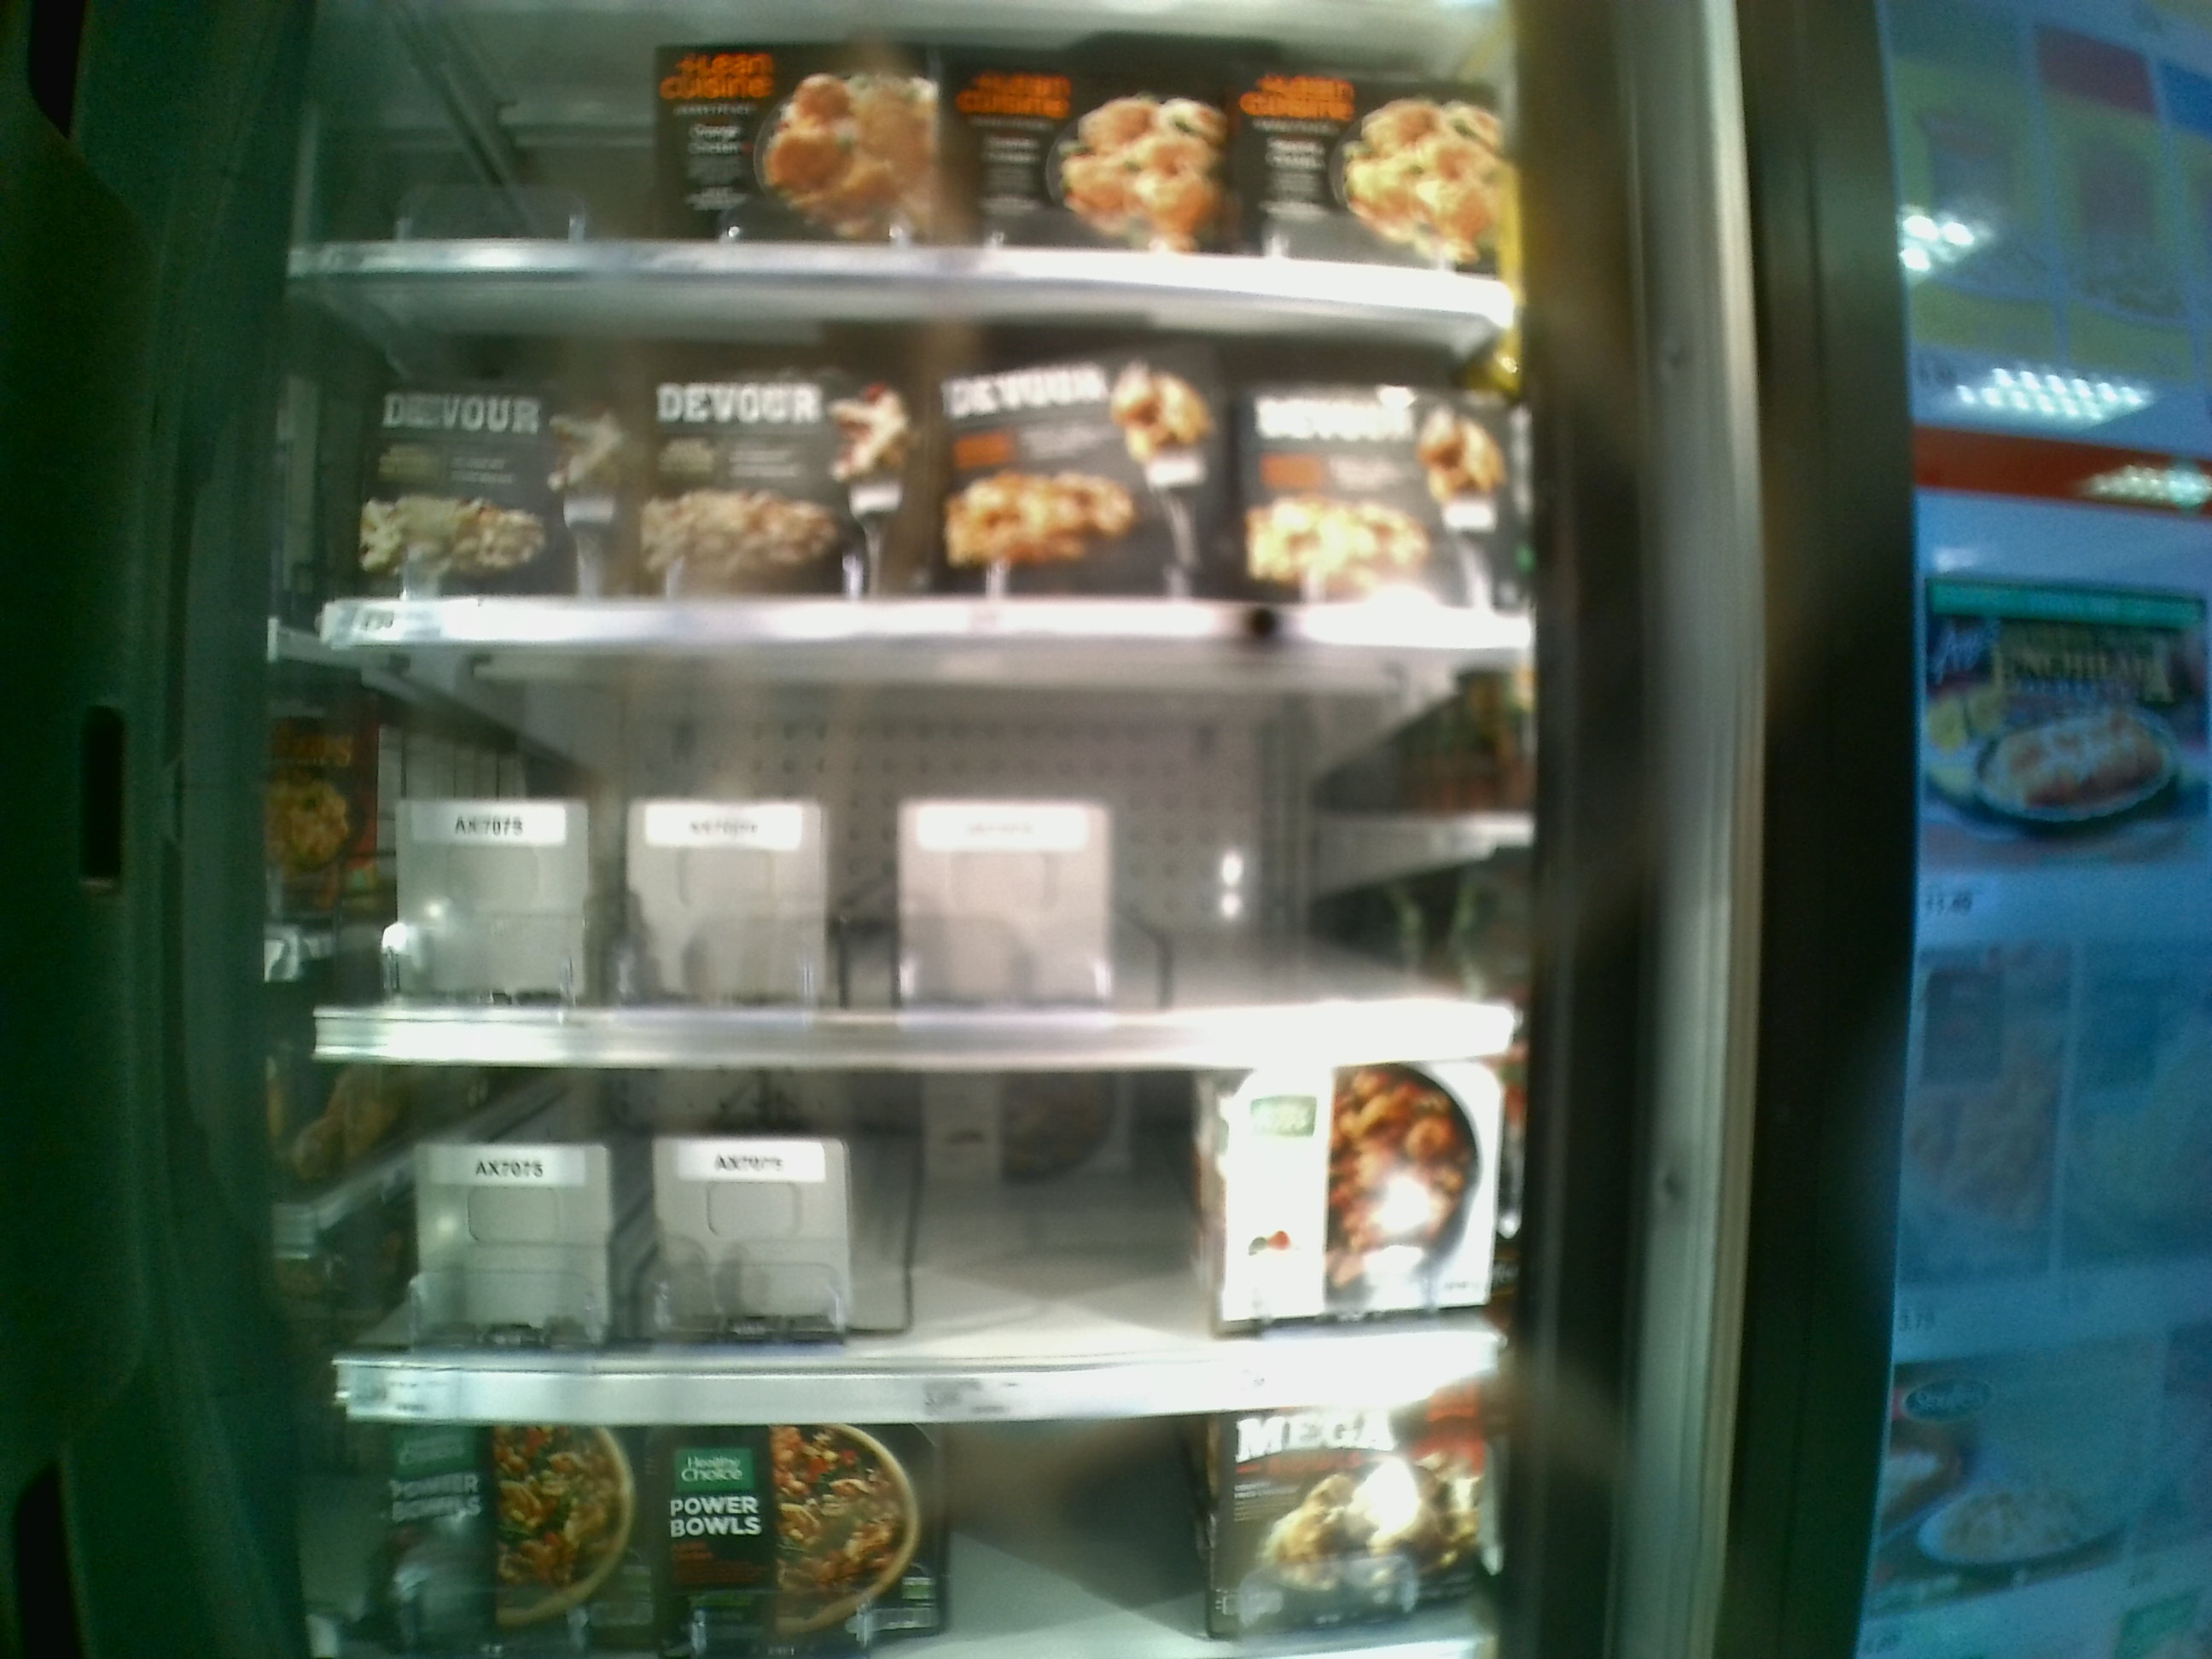shelf: (315, 641, 1519, 1065), (296, 267, 1538, 643), (320, 1054, 1521, 1434)
